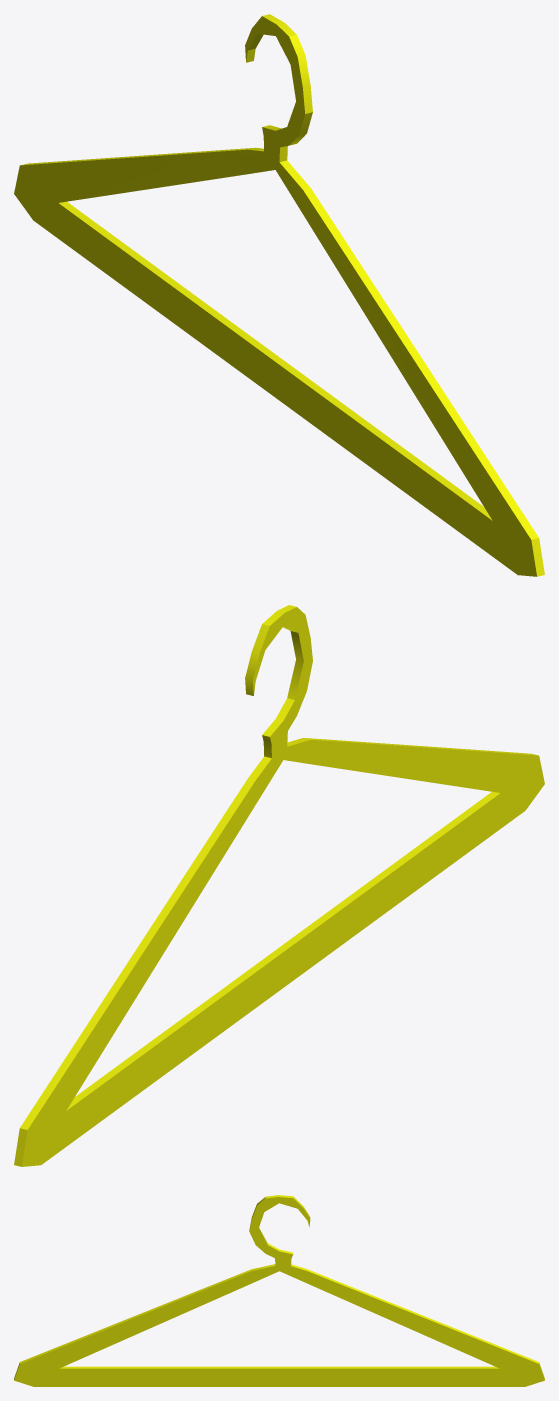
File: Hanger_J.FBX
3 views of the same model, one above another, from view 1: azimuth 30°, elevation 25°; view 2: azimuth 150°, elevation 25°; view 3: azimuth 270°, elevation 25° (orthographic). The views are drawn at different scales.
Parts seen in each view (by area): view 1: Hanger; view 2: Hanger; view 3: Hanger.
Part boxes in pixels (bbox=[...]): Hanger: bbox=[14, 14, 544, 576]; Hanger: bbox=[14, 605, 544, 1166]; Hanger: bbox=[14, 1195, 544, 1386].
Size of the model in its own units: 1.01 by 45.57 by 115.
